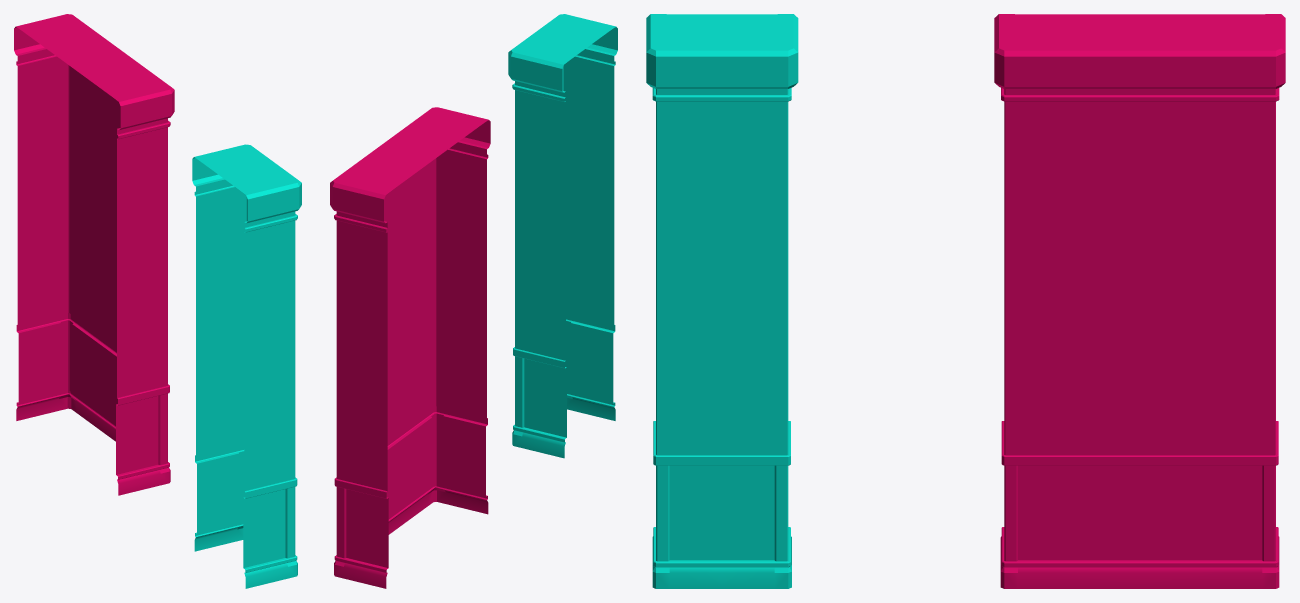
The model's file is TempA_HalfPillars_01_Low.fbx.
The picture shows the model from 3 angles, left to right: view 1: azimuth 30°, elevation 25°; view 2: azimuth 150°, elevation 25°; view 3: azimuth 270°, elevation 25°; orthographic projection. The views are drawn at different scales.
Parts seen in each view (by area): view 1: TempA_WideHalfPillar_01_Low, TempA_ThinHalfPillar_01_Low; view 2: TempA_WideHalfPillar_01_Low, TempA_ThinHalfPillar_01_Low; view 3: TempA_WideHalfPillar_01_Low, TempA_ThinHalfPillar_01_Low.
Boxes of the visible parts, x1,y1,x2,y2 form: TempA_WideHalfPillar_01_Low: (14, 14, 174, 495); TempA_ThinHalfPillar_01_Low: (192, 144, 301, 588); TempA_WideHalfPillar_01_Low: (330, 107, 490, 588); TempA_ThinHalfPillar_01_Low: (508, 14, 617, 458); TempA_WideHalfPillar_01_Low: (994, 14, 1285, 588); TempA_ThinHalfPillar_01_Low: (646, 14, 798, 588).
Bounding box in the file's own units: 0.6534 × 4.27 × 4.59.
